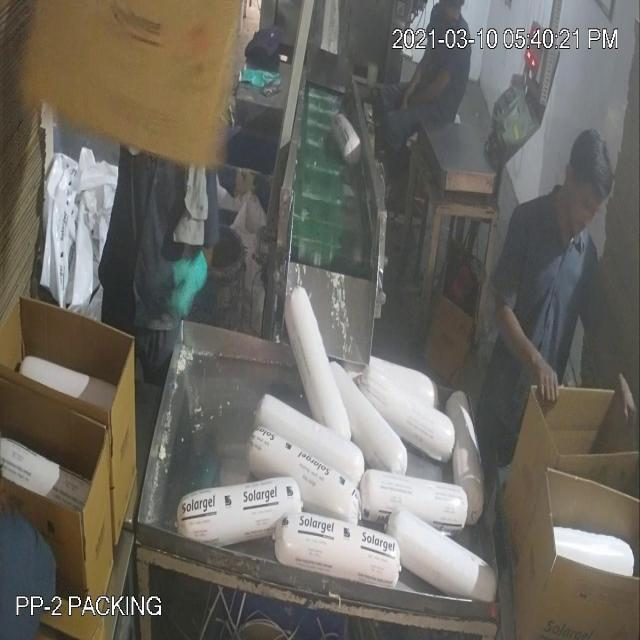gloves: (156, 242, 216, 322)
no-gloves: (486, 282, 560, 409), (588, 315, 638, 430), (403, 45, 455, 113)
